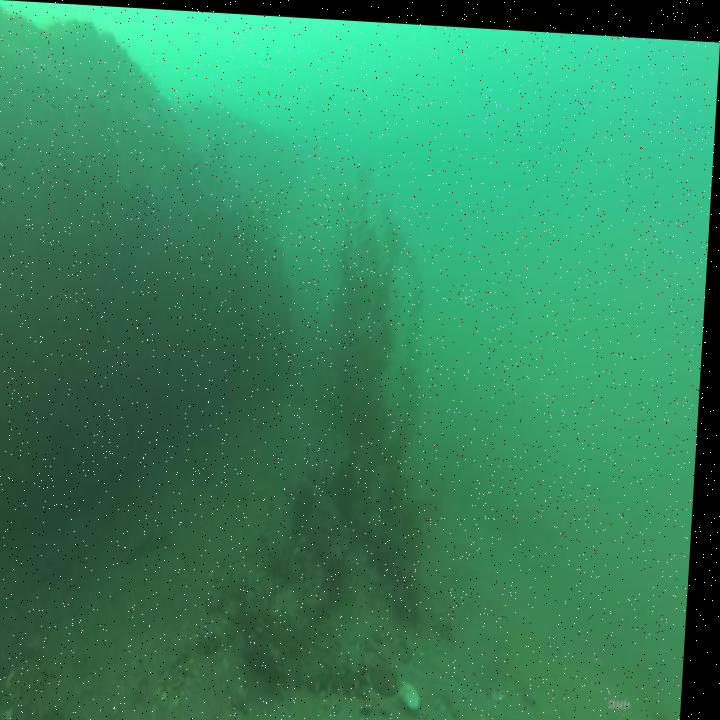holothurian: (289, 630, 390, 697)
scallop: (407, 671, 431, 711)
